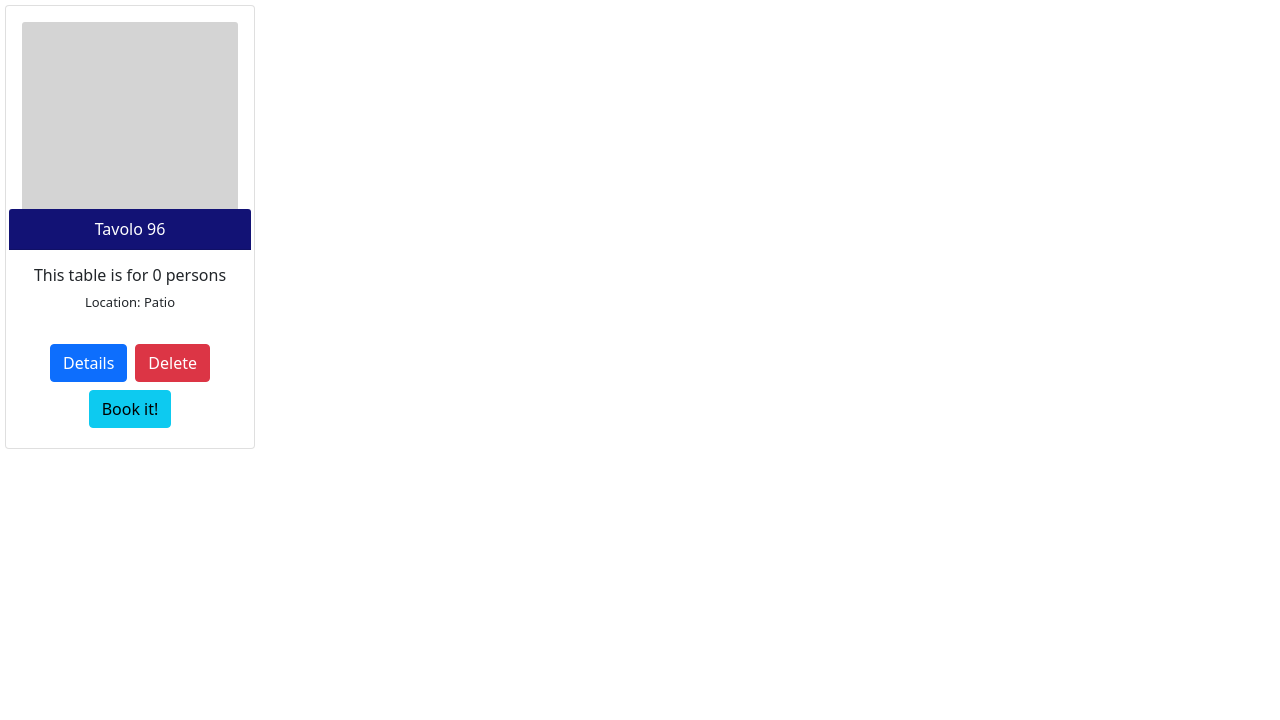
Test: Table › should open the Table details modal
What coordinates should you click on to do the following:
click the button "Details"
I would click on:
 (89, 363)
Its box is [50,344,127,382].
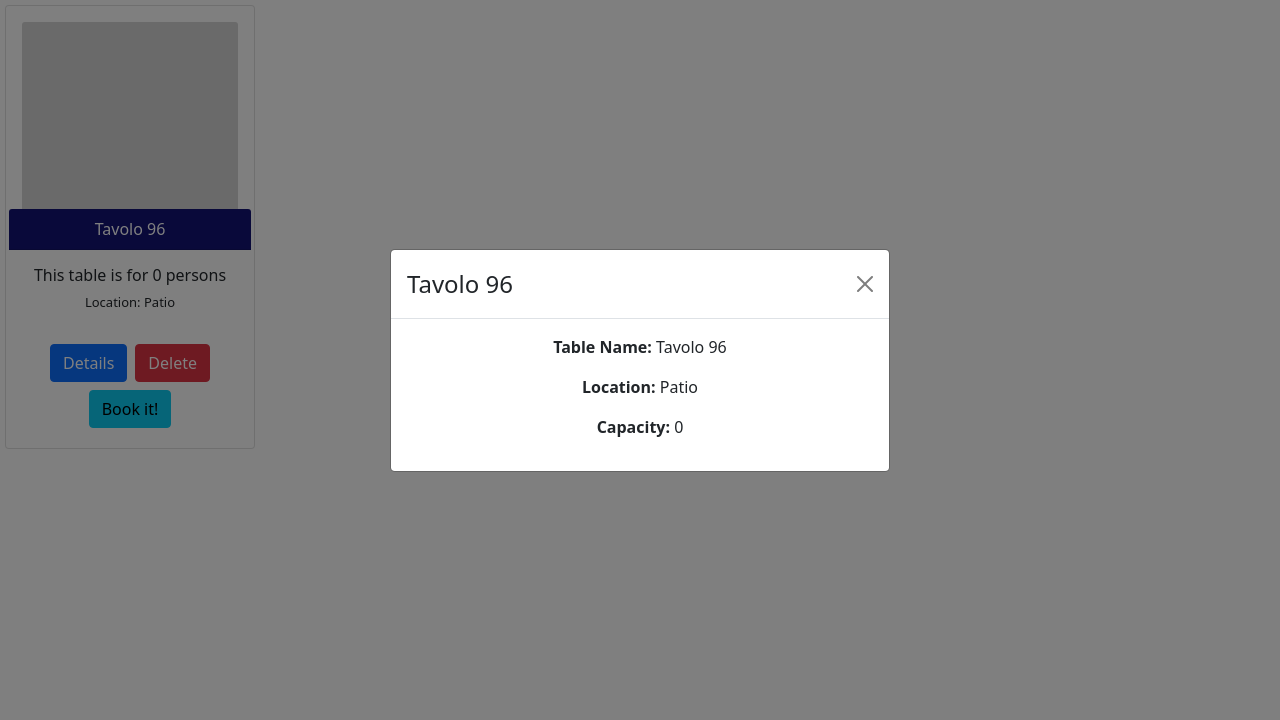
Expected: the button named "close" is shown, [849,268,881,300]
